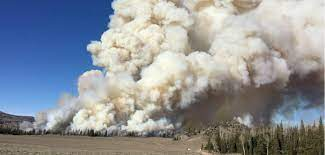smoke: (36, 1, 325, 135)
